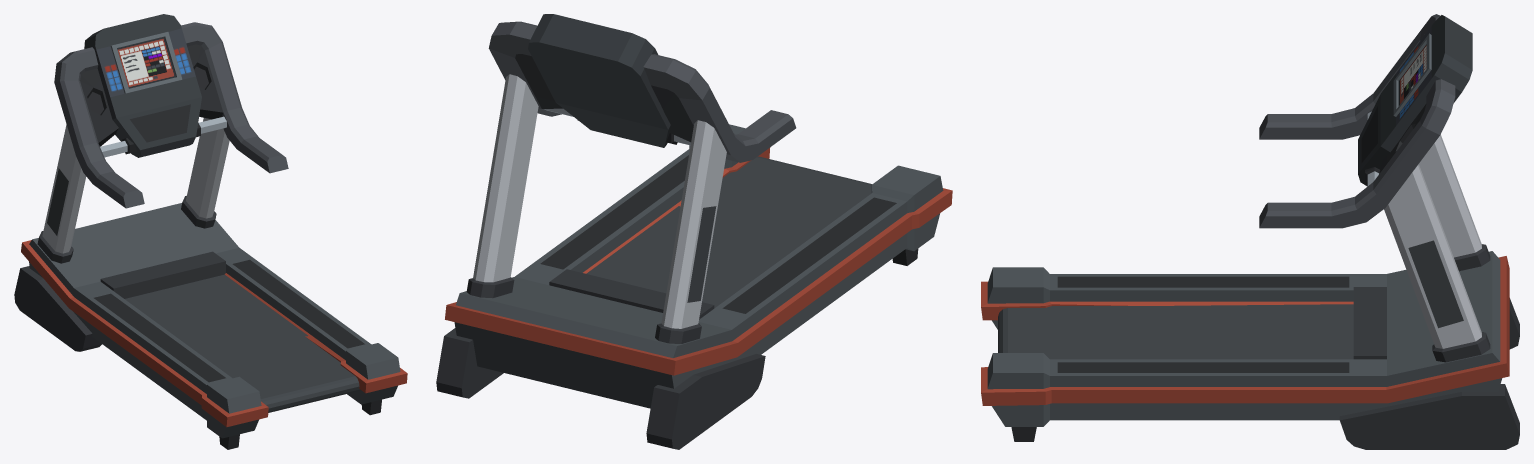
The model's file is Tredmill.fbx.
The picture shows the model from 3 angles, left to right: view 1: azimuth 30°, elevation 25°; view 2: azimuth 150°, elevation 25°; view 3: azimuth 270°, elevation 25°; orthographic projection. The views are drawn at different scales.
Visible parts, largest first — view 1: Tredmill; view 2: Tredmill; view 3: Tredmill.
Boxes of the visible parts, x1=… form: Tredmill: x1=14, y1=14, x2=407, y2=449; Tredmill: x1=436, y1=14, x2=952, y2=449; Tredmill: x1=981, y1=14, x2=1519, y2=449.
Size of the model in its own units: 124 by 187 by 254.
Materials: 1 (1 with a texture image).
